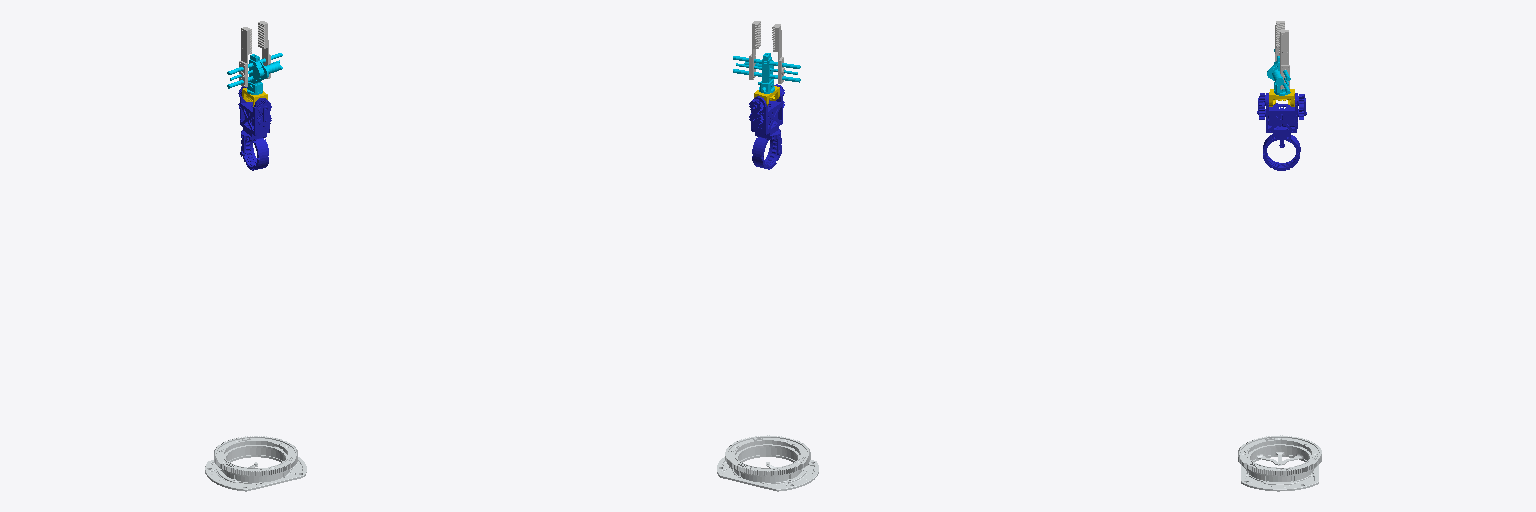
The robot description file, URDF, robot "ASTRA_Arm":
<?xml version="1.0" encoding="utf-8"?>
<!-- This URDF was automatically created by SolidWorks to URDF Exporter! Originally created by Stephen Brawner ([email redacted]) 
     Commit Version: 1.6.1-11-gaed57c3-dirty  Build Version: 1.6.9361.3070
     For more information, please see http://wiki.ros.org/sw_urdf_exporter -->
<robot
  name="ASTRA_Arm">

  <link
    name="base_link">
    <inertial>
      <origin
        xyz="0.026661 -0.017083 -0.072681"
        rpy="0 0 0" />
      <mass
        value="1.344" />
      <inertia
        ixx="0.0071986"
        ixy="-1.8109E-06"
        ixz="-4.371E-06"
        iyy="0.0087125"
        iyz="1.3418E-07"
        izz="0.015884" />
    </inertial>
    <visual>
      <origin
        xyz="0 0 0"
        rpy="0 0 0" />
      <geometry>
        <mesh
          filename="package://arm_description/meshes/base_link.STL" />
      </geometry>
      <material
        name="">
        <color
          rgba="0.89804 0.91765 0.92941 1" />
      </material>
    </visual>
    <collision>
      <origin
        xyz="0 0 0"
        rpy="0 0 0" />
      <geometry>
        <mesh
          filename="package://arm_description/meshes/base_link.STL" />
      </geometry>
    </collision>
  </link>

  <link
    name="Axis_0_Plate">
    <inertial>
      <origin
        xyz="0.025635 0.047115 0.021109"
        rpy="0 0 0" />
      <mass
        value="2.045" />
      <inertia
        ixx="0.0097744"
        ixy="2.0744E-07"
        ixz="0.00060246"
        iyy="0.012437"
        iyz="-2.2545E-05"
        izz="0.00611" />
    </inertial>
    <visual>
      <origin
        xyz="0 0 0"
        rpy="0 0 0" />
      <geometry>
        <mesh
          filename="package://arm_description/meshes/Axis_0_Plate.STL" />
      </geometry>
      <material
        name="">
        <color
          rgba="0.4 0.4 0.4 1" />
      </material>
    </visual>
    <collision>
      <origin
        xyz="0 0 0"
        rpy="0 0 0" />
      <geometry>
        <mesh
          filename="package://arm_description/meshes/Axis_0_Plate.STL" />
      </geometry>
    </collision>
  </link>

  <joint
    name="Axis_0_Joint"
    type="revolute">
    <origin
      xyz="0.018772 -0.020734 -0.04971"
      rpy="1.5708 0 3.1115" />
    <parent
      link="base_link" />
    <child
      link="Axis_0_Plate" />
    <axis
      xyz="0 -1 0" />
    <limit
      lower="-3.14"
      upper="3.14"
      effort="0"
      velocity="31.41593" />
  </joint>

  <link
    name="Axis_1_Segment">
    <inertial>
      <origin
        xyz="0.317731812584795 0.0226837932394467 -2.94234579792906E-05"
        rpy="0 0 0" />
      <mass
        value="2.10107115350287" />
      <inertia
        ixx="0.00185099460285527"
        ixy="-6.85595125576909E-06"
        ixz="-2.99093842113918E-07"
        iyy="0.00462248035875048"
        iyz="2.91093713403385E-07"
        izz="0.00297641069201651" />
    </inertial>
    <visual>
      <origin
        xyz="0 0 0"
        rpy="0 0 0" />
      <geometry>
        <mesh
          filename="package://arm_description/meshes/Axis_1_Segment.STL" />
      </geometry>
      <material
        name="">
        <color
          rgba="0.8 0.2 0.2 1" />
      </material>
    </visual>
    <collision>
      <origin
        xyz="0 0 0"
        rpy="0 0 0" />
      <geometry>
        <mesh
          filename="package://arm_description/meshes/Axis_1_Segment.STL" />
      </geometry>
    </collision>
  </link>

  <joint
    name="Axis_1_Joint"
    type="revolute">
    <origin
      xyz="-0.0271654135185528 0.0927245490180083 0.00384109909109076"
      rpy="-3.14159265358977 -0.00524713054608625 1.5707963267949" />
    <parent
      link="Axis_0_Plate" />
    <child
      link="Axis_1_Segment" />
    <axis
      xyz="0 -1 0" />
    <limit
      lower="-1.05"
      upper="1.6"
      effort="0"
      velocity="31.41593" />
  </joint>

  <link
    name="Axis_2_Segment">
    <inertial>
      <origin
        xyz="0.179701426719665 -0.0176131583689303 5.71147464441535E-05"
        rpy="0 0 0" />
      <mass
        value="3.13644489009951" />
      <inertia
        ixx="0.00172062005671382"
        ixy="1.49995165753112E-05"
        ixz="3.0146547850231E-07"
        iyy="0.00419573957161135"
        iyz="2.86281305896603E-07"
        izz="0.00280821030835127" />
    </inertial>
    <visual>
      <origin
        xyz="0 0 0"
        rpy="0 0 0" />
      <geometry>
        <mesh
          filename="package://arm_description/meshes/Axis_2_Segment.STL" />
      </geometry>
      <material
        name="">
        <color
          rgba="0.2 0.8 0.2 1" />
      </material>
    </visual>
    <collision>
      <origin
        xyz="0 0 0"
        rpy="0 0 0" />
      <geometry>
        <mesh
          filename="package://arm_description/meshes/Axis_2_Segment.STL" />
      </geometry>
    </collision>
  </link>

  <joint
    name="Axis_2_Joint"
    type="revolute">
    <origin
      xyz="0.470027000000004 0.0126999999999999 0"
      rpy="3.14159265358979 0.000449358059257729 0" />
    <parent
      link="Axis_1_Segment" />
    <child
      link="Axis_2_Segment" />
    <axis
      xyz="0 -1 0" />
    <limit
      lower="-2.0"
      upper="2.0"
      effort="0"
      velocity="31.41593" />
  </joint>

  <link
    name="Wrist">
    <inertial>
      <origin
        xyz="0.0258890113931529 -0.0205223442970055 6.01641698143966E-05"
        rpy="0 0 0" />
      <mass
        value="1.95105877103309" />
      <inertia
        ixx="0.00117490634970832"
        ixy="8.14355696873965E-06"
        ixz="2.37060433355634E-09"
        iyy="0.0025492938141431"
        iyz="-4.81227026285992E-09"
        izz="0.00159235737231991" />
    </inertial>
    <visual>
      <origin
        xyz="0 0 0"
        rpy="0 0 0" />
      <geometry>
        <mesh
          filename="package://arm_description/meshes/Wrist.STL" />
      </geometry>
      <material
        name="">
        <color
          rgba="0.2 0.2 0.8 1" />
      </material>
    </visual>
    <collision>
      <origin
        xyz="0 0 0"
        rpy="0 0 0" />
      <geometry>
        <mesh
          filename="package://arm_description/meshes/Wrist.STL" />
      </geometry>
    </collision>
  </link>

  <joint
    name="Axis_3_Joint"
    type="revolute">
    <origin
      xyz="0.393826999999998 0 0"
      rpy="0 -0.000409495780687665 0" />
    <parent
      link="Axis_2_Segment" />
    <child
      link="Wrist" />
    <axis
      xyz="0 -1 0" />
    <limit
      lower="-1.6"
      upper="1.9"
      effort="0"
      velocity="31.41593" />
  </joint>

  <link
    name="Diff_Carrier">
    <inertial>
      <origin
        xyz="-8.64620358677695E-06 -0.00516792807449162 -7.22608790769408E-07"
        rpy="0 0 0" />
      <mass
        value="0.0655351660884378" />
      <inertia
        ixx="1.65846526943977E-05"
        ixy="3.62206129298215E-09"
        ixz="5.09422122565314E-10"
        iyy="4.25479683866677E-05"
        iyz="2.86164802173259E-10"
        izz="3.87760449919773E-05" />
    </inertial>
    <visual>
      <origin
        xyz="0 0 0"
        rpy="0 0 0" />
      <geometry>
        <mesh
          filename="package://arm_description/meshes/Diff_Carrier.STL" />
      </geometry>
      <material
        name="">
        <color
          rgba="0.96 0.82 0.01 1" />
      </material>
    </visual>
    <collision>
      <origin
        xyz="0 0 0"
        rpy="0 0 0" />
      <geometry>
        <mesh
          filename="package://arm_description/meshes/Diff_Carrier.STL" />
      </geometry>
    </collision>
  </link>

  <joint
    name="Wrist_Differential_Joint"
    type="revolute">
    <origin
      xyz="0.176692001200001 -0.00622300000004081 0"
      rpy="-3.05263944120951 1.57079631189374 1.65994236547327" />
    <parent
      link="Wrist" />
    <child
      link="Diff_Carrier" />
    <axis
      xyz="-1 0 0" />
    <limit
      lower="-1.6"
      upper="1.6"
      effort="0"
      velocity="31.41593" />
  </joint>

  <link
    name="End_Effector">
    <inertial>
      <origin
        xyz="-0.00327558376591462 0.00327411156667146 -0.0553569354578649"
        rpy="0 0 0" />
      <mass
        value="0.397605677640027" />
      <inertia
        ixx="0.000631368000075726"
        ixy="-1.01357929540856E-09"
        ixz="-3.06601632900158E-06"
        iyy="0.000105800099414061"
        iyz="2.32813748604228E-09"
        izz="0.000592001119919064" />
    </inertial>
    <visual>
      <origin
        xyz="0 0 0"
        rpy="0 0 0" />
      <geometry>
        <mesh
          filename="package://arm_description/meshes/End_Effector.STL" />
      </geometry>
      <material
        name="">
        <color
          rgba="0.01 0.82 0.96 1" />
      </material>
    </visual>
    <collision>
      <origin
        xyz="0 0 0"
        rpy="0 0 0" />
      <geometry>
        <mesh
          filename="package://arm_description/meshes/End_Effector.STL" />
      </geometry>
    </collision>
  </link>

  <joint
    name="Wrist-EF_Roll_Joint"
    type="continuous">
    <origin
      xyz="0 0.01 0"
      rpy="-1.5708 -0.21566 -3.1416" />
    <parent
      link="Diff_Carrier" />
    <child
      link="End_Effector" />
    <axis
      xyz="0 0 1" />
  </joint>

  <link
    name="EF_Gripper_Right">
    <inertial>
      <origin
        xyz="3.60822483003176E-16 0.0395187564799554 -0.0785892929086096"
        rpy="0 0 0" />
      <mass
        value="0.0859306256217421" />
      <inertia
        ixx="8.1015302646778E-05"
        ixy="2.5410988417629E-21"
        ixz="3.75123099070348E-19"
        iyy="8.51028632685389E-05"
        iyz="1.00631950096307E-08"
        izz="5.50169350148622E-06" />
    </inertial>
    <visual>
      <origin
        xyz="0 0 0"
        rpy="0 0 0" />
      <geometry>
        <mesh
          filename="package://arm_description/meshes/EF_Gripper_Right.STL" />
      </geometry>
      <material
        name="">
        <color
          rgba="0.8 0.8 0.8 1" />
      </material>
    </visual>
    <collision>
      <origin
        xyz="0 0 0"
        rpy="0 0 0" />
      <geometry>
        <mesh
          filename="package://arm_description/meshes/EF_Gripper_Right.STL" />
      </geometry>
    </collision>
  </link>

  <joint
    name="Gripper_Slider_Right"
    type="prismatic">
    <origin
      xyz="0 0 -0.031677"
      rpy="0 0 3.1416" />
    <parent
      link="End_Effector" />
    <child
      link="EF_Gripper_Right" />
    <axis
      xyz="0 1 0" />
    <limit
      lower="-0.025"
      upper="0.04"
      effort="0"
      velocity="0.015" />
    <mimic
      joint="Gripper_Slider_Left"
      multiplier="-1" />
  </joint>

  <link
    name="EF_Gripper_Left">
    <inertial>
      <origin
        xyz="0.000260261090099842 0.0391877753208171 -0.0810862651363518"
        rpy="0 0 0" />
      <mass
        value="0.0813132558225319" />
      <inertia
        ixx="7.92230074239095E-05"
        ixy="8.60239969339994E-10"
        ixz="-3.27617434511821E-07"
        iyy="8.29877943429396E-05"
        iyz="9.84609377733742E-09"
        izz="4.98027032334885E-06" />
    </inertial>
    <visual>
      <origin
        xyz="0 0 0"
        rpy="0 0 0" />
      <geometry>
        <mesh
          filename="package://arm_description/meshes/EF_Gripper_Left.STL" />
      </geometry>
      <material
        name="">
        <color
          rgba="0.8 0.8 0.8 1" />
      </material>
    </visual>
    <collision>
      <origin
        xyz="0 0 0"
        rpy="0 0 0" />
      <geometry>
        <mesh
          filename="package://arm_description/meshes/EF_Gripper_Left.STL" />
      </geometry>
    </collision>
  </link>

  <joint
    name="Gripper_Slider_Left"
    type="prismatic">
    <origin
      xyz="0 0 -0.031677"
      rpy="0 0 0" />
    <parent
      link="End_Effector" />
    <child
      link="EF_Gripper_Left" />
    <axis
      xyz="0 -1 0" />
    <limit
      lower="-0.04"
      upper="0.025"
      effort="0"
      velocity="0.015" />
  </joint>

</robot>

--- What the picture shows (computed from the rendered views, not written in the file) ---
The picture shows the robot from 3 angles, left to right: view 1: azimuth 30°, elevation 25°; view 2: azimuth 150°, elevation 25°; view 3: azimuth 270°, elevation 25°; orthographic projection.
Robot: ASTRA_Arm — 9 links, 8 joints (5 revolute, 1 continuous, 2 prismatic); root link base_link; default pose: all joints at 0.
Visible links, largest first — view 1: base_link, Wrist, End_Effector; view 2: base_link, Wrist, End_Effector; view 3: base_link, Wrist.
Link boxes in pixels (bbox=[...]): base_link: bbox=[205, 436, 306, 491]; Wrist: bbox=[238, 86, 271, 170]; End_Effector: bbox=[227, 53, 282, 94]; base_link: bbox=[717, 435, 818, 491]; Wrist: bbox=[749, 84, 784, 169]; End_Effector: bbox=[733, 53, 800, 93]; base_link: bbox=[1238, 435, 1321, 491]; Wrist: bbox=[1257, 93, 1306, 170].
Bounding box of the posed robot: 0.2915 × 0.2429 × 1.4 m (x, y, z).
6 mesh visuals loaded from 9 distinct referenced files (6 binary STL); not drawn: 3 (reference not matched to a file when rendering).
